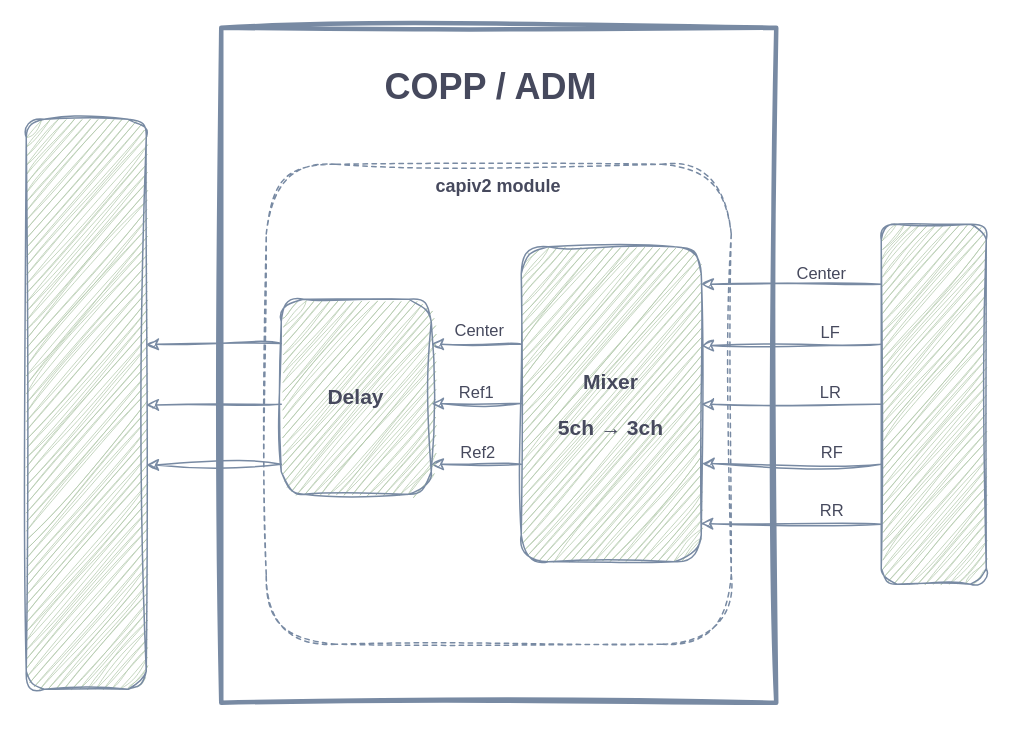
This 1013x731 diagram has some shape labels left out. Each missing label, with the centre of its shape:
TDM: point (933, 403)
TX Matrix: point (85, 403)
